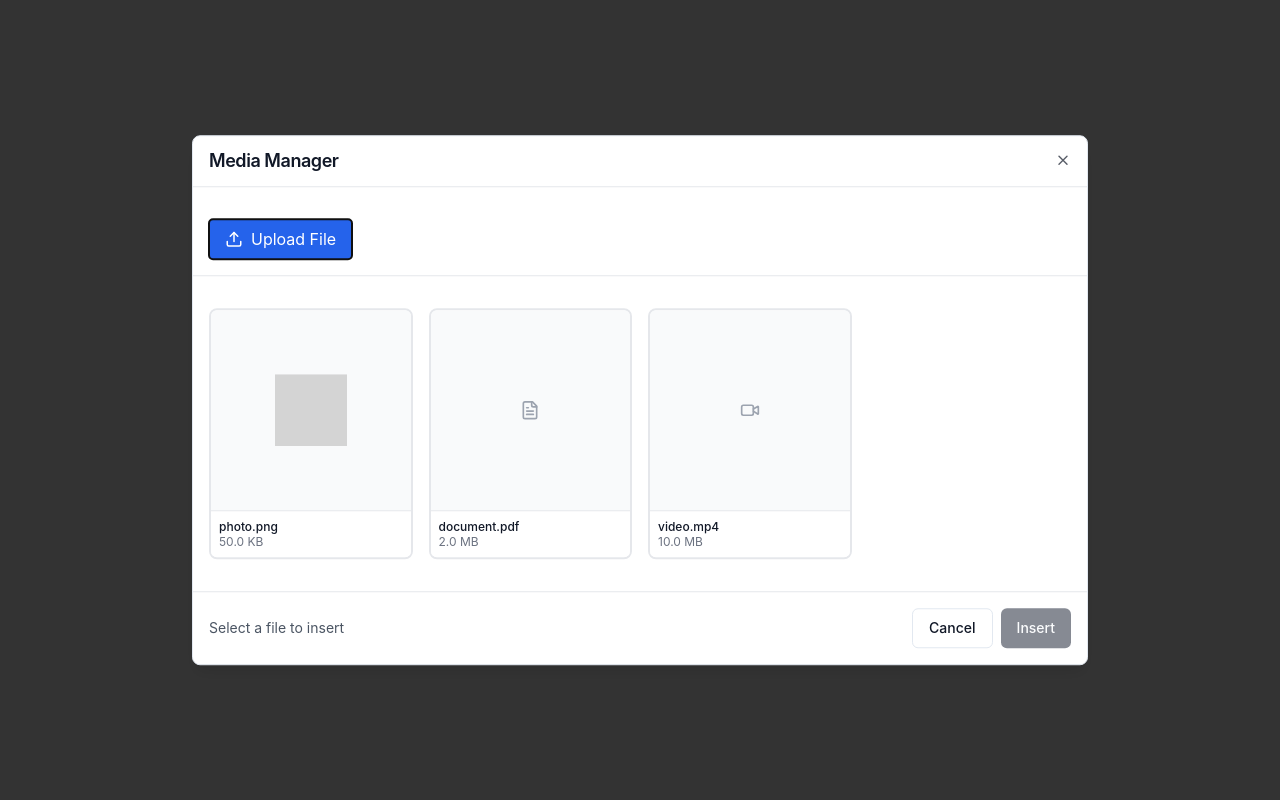
Test: MediaManager › selecting a file shows it as selected
expect the text "photo.png" is shown: met, box [219,519,278,534]
Click the text "photo.png".
click(311, 434)  # box [209,308,412,559]
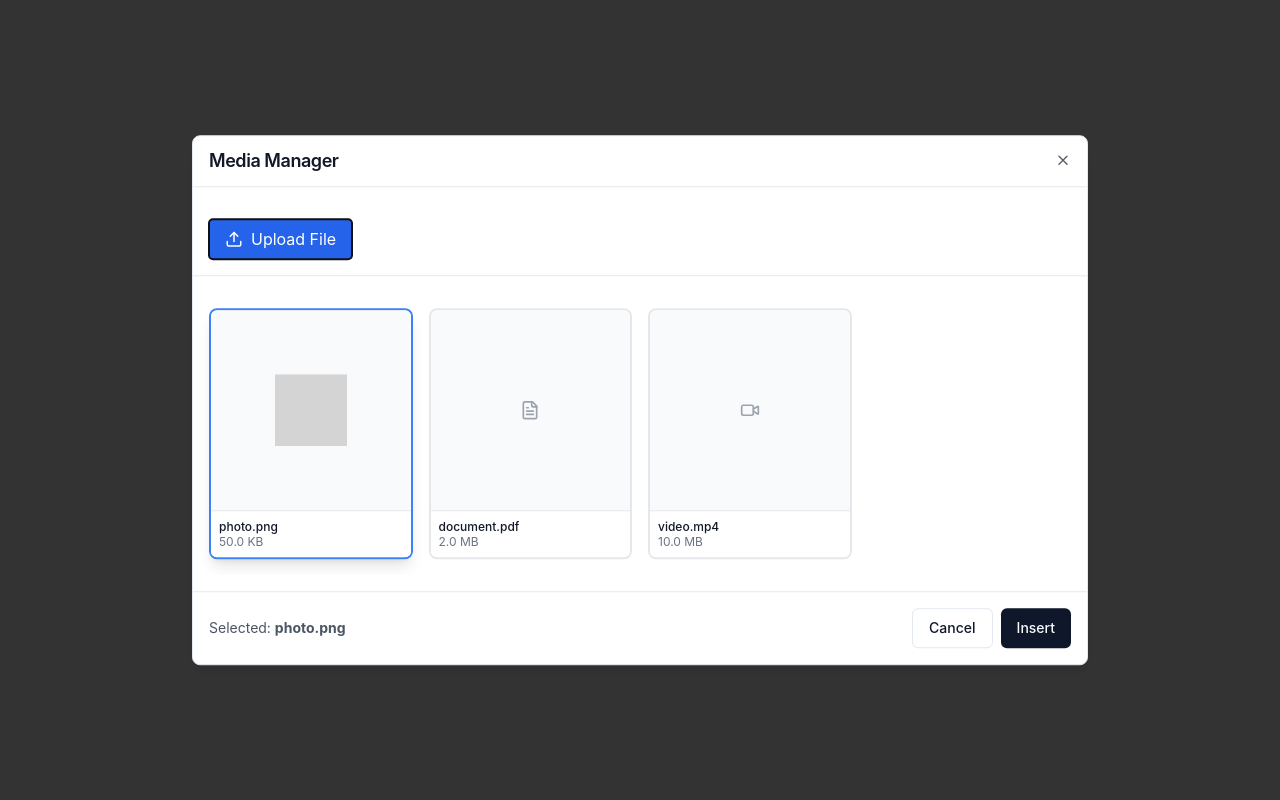
expect the text "Selected: photo.png" is shown: met, box [209,619,346,636]
